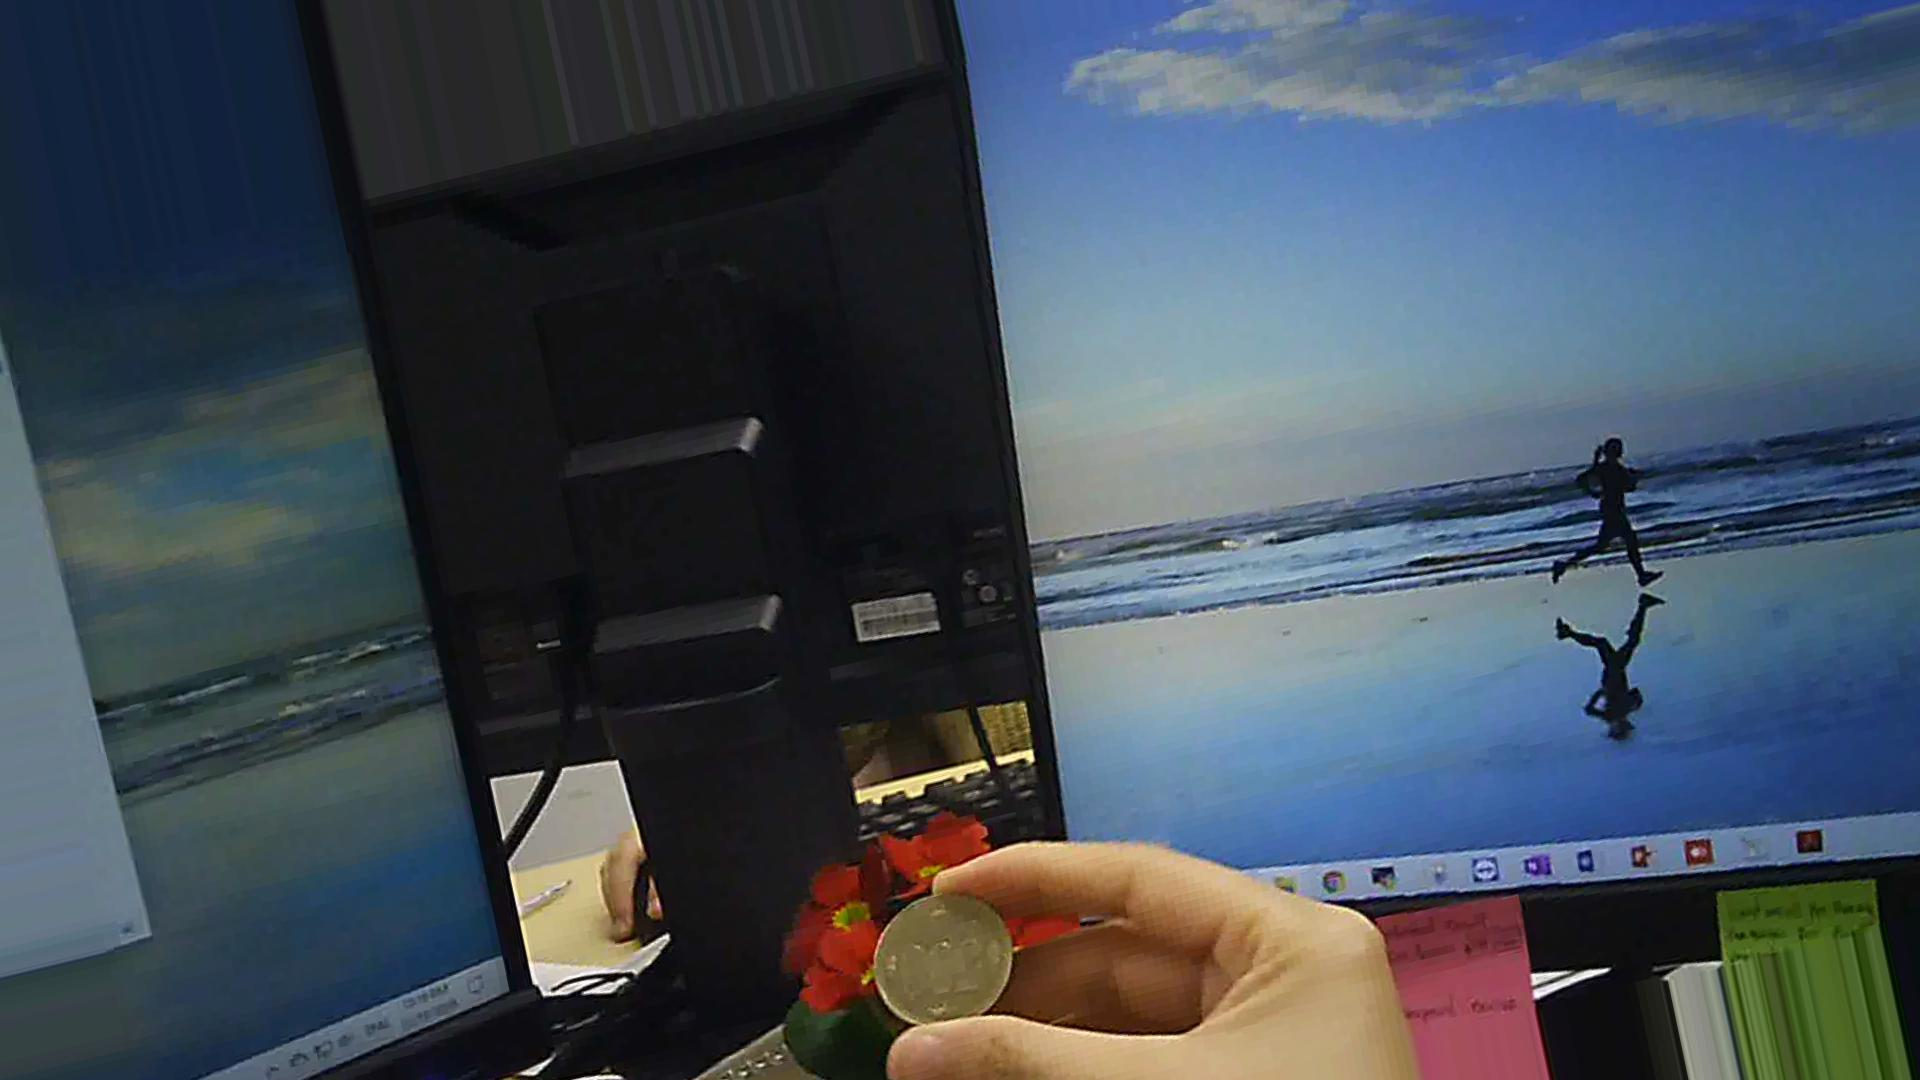500 Yen: (852, 894, 1021, 1015)
